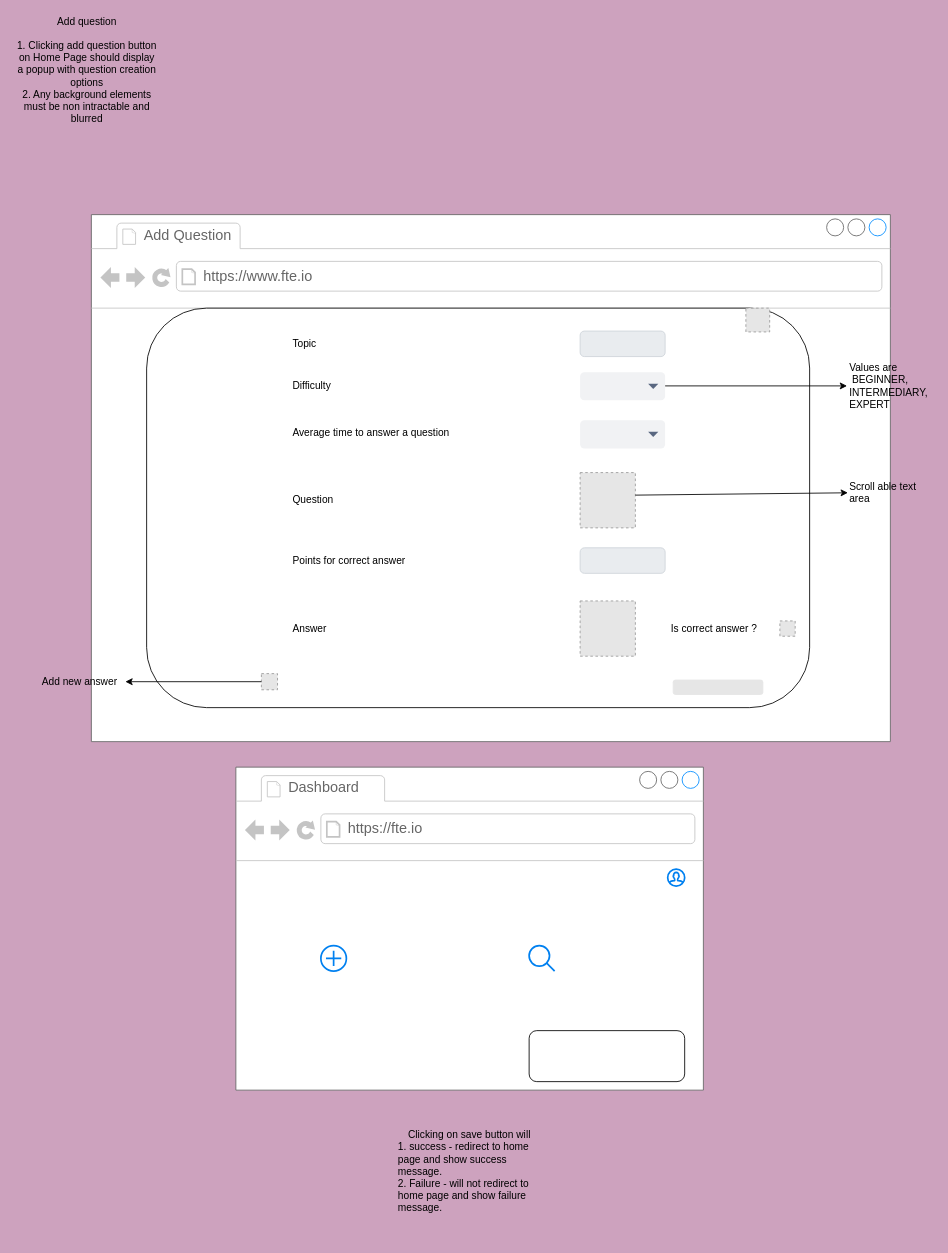
Image size: 948x1253. Some labels were removed from this diagram. Grey dashed boxes stand in for pictures. Here are the shapes that lost their labels. From the top down, the centre of each, then its label:
At [717,686]: "save".
At [606,1056]: "Question with id ### is saved under topic ****".
